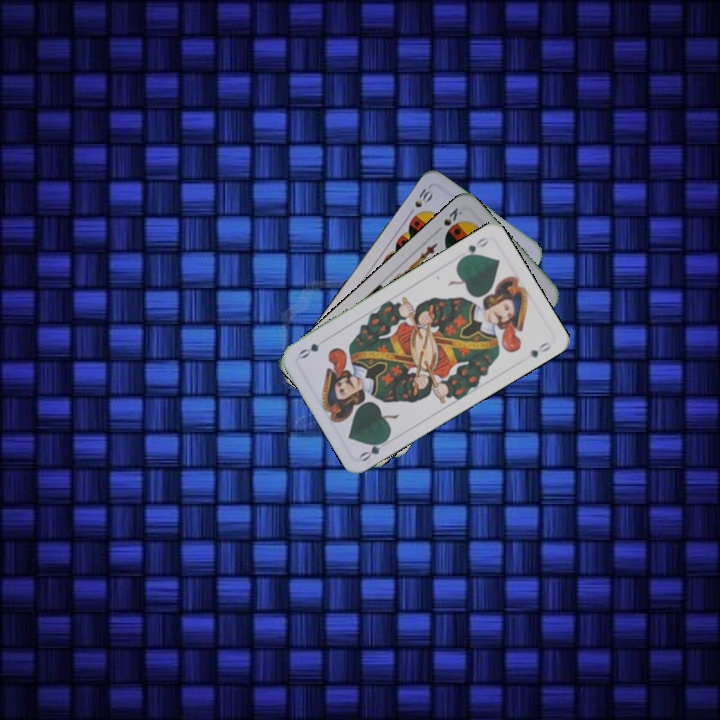GO: (356, 433, 391, 464), (456, 233, 492, 262)
S10: (410, 183, 436, 210)
SK: (439, 203, 465, 228)
